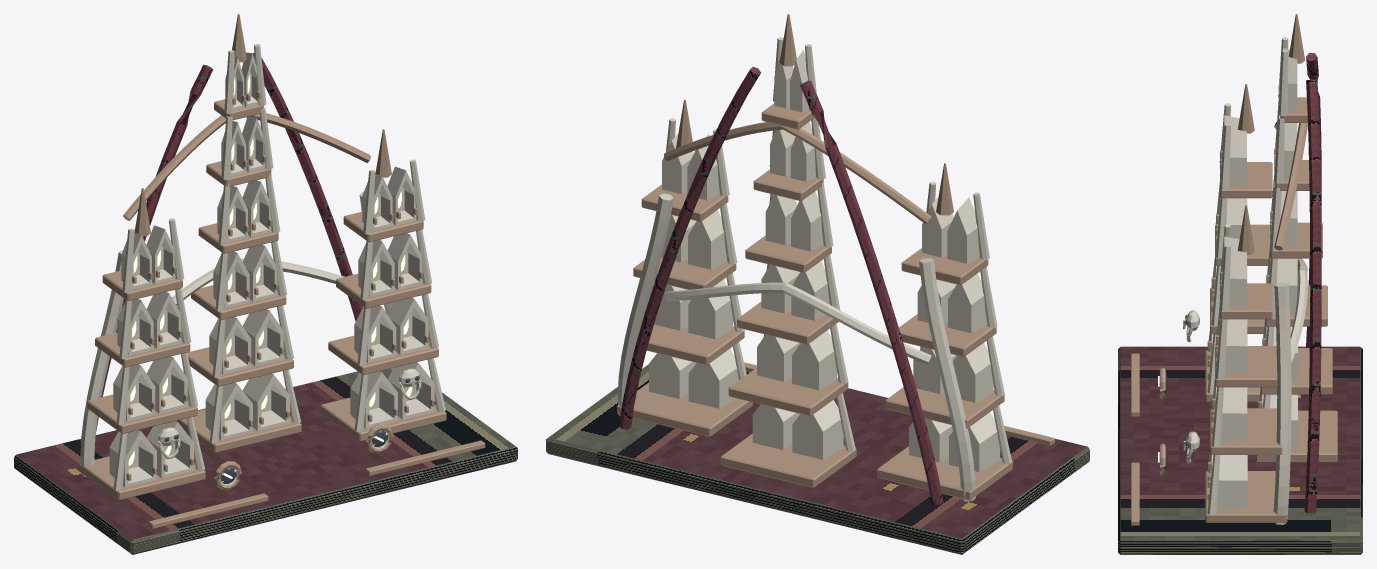
File: ossuary_tower_cluster.glb
The picture shows the model from 3 angles, left to right: view 1: azimuth 30°, elevation 25°; view 2: azimuth 150°, elevation 25°; view 3: azimuth 270°, elevation 25°; orthographic projection. The views are drawn at different scales.
Visible parts, largest first — view 1: ossuary_tower_cluster_warm, ossuary_tower_cluster_petrol, ossuary_tower_cluster_worn, ossuary_tower_cluster_bruised, ossuary_tower_cluster_sick; view 2: ossuary_tower_cluster_warm, ossuary_tower_cluster_worn, ossuary_tower_cluster_petrol, ossuary_tower_cluster_bruised; view 3: ossuary_tower_cluster_petrol, ossuary_tower_cluster_warm, ossuary_tower_cluster_worn, ossuary_tower_cluster_bruised.
Part boxes in pixels (bbox=[...]): ossuary_tower_cluster_warm: bbox=[80, 43, 445, 490]; ossuary_tower_cluster_petrol: bbox=[14, 368, 517, 554]; ossuary_tower_cluster_worn: bbox=[79, 14, 485, 528]; ossuary_tower_cluster_bruised: bbox=[95, 53, 362, 436]; ossuary_tower_cluster_sick: bbox=[128, 74, 412, 478]; ossuary_tower_cluster_warm: bbox=[617, 37, 1012, 501]; ossuary_tower_cluster_worn: bbox=[617, 14, 1054, 500]; ossuary_tower_cluster_petrol: bbox=[546, 364, 1089, 554]; ossuary_tower_cluster_bruised: bbox=[619, 67, 943, 505]; ossuary_tower_cluster_petrol: bbox=[1118, 346, 1362, 554]; ossuary_tower_cluster_warm: bbox=[1160, 37, 1307, 524]; ossuary_tower_cluster_worn: bbox=[1131, 14, 1337, 525]; ossuary_tower_cluster_bruised: bbox=[1304, 52, 1321, 513].
Size of the model in its own units: 6.4 by 6.81 by 3.4.
6 materials, 2 textured.
